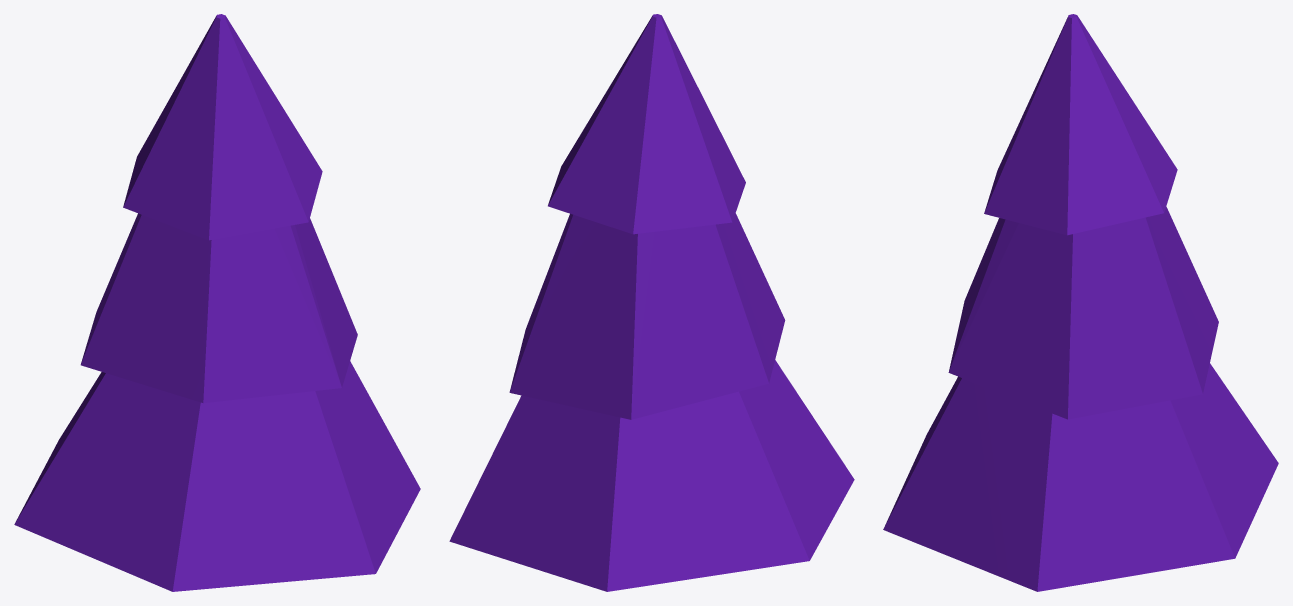
Rendered from tree.glb.
3 views of the same model, side by side, from view 1: azimuth 30°, elevation 25°; view 2: azimuth 150°, elevation 25°; view 3: azimuth 270°, elevation 25° (orthographic). The views are drawn at different scales.
Parts seen in each view (by area): view 1: tree; view 2: tree; view 3: tree.
Part boxes in pixels (<box>): tree: <box>14,14,420,591</box>; tree: <box>449,14,854,591</box>; tree: <box>883,14,1278,591</box>.
Bounding box in the file's own units: 15.09 × 20.54 × 14.71.
